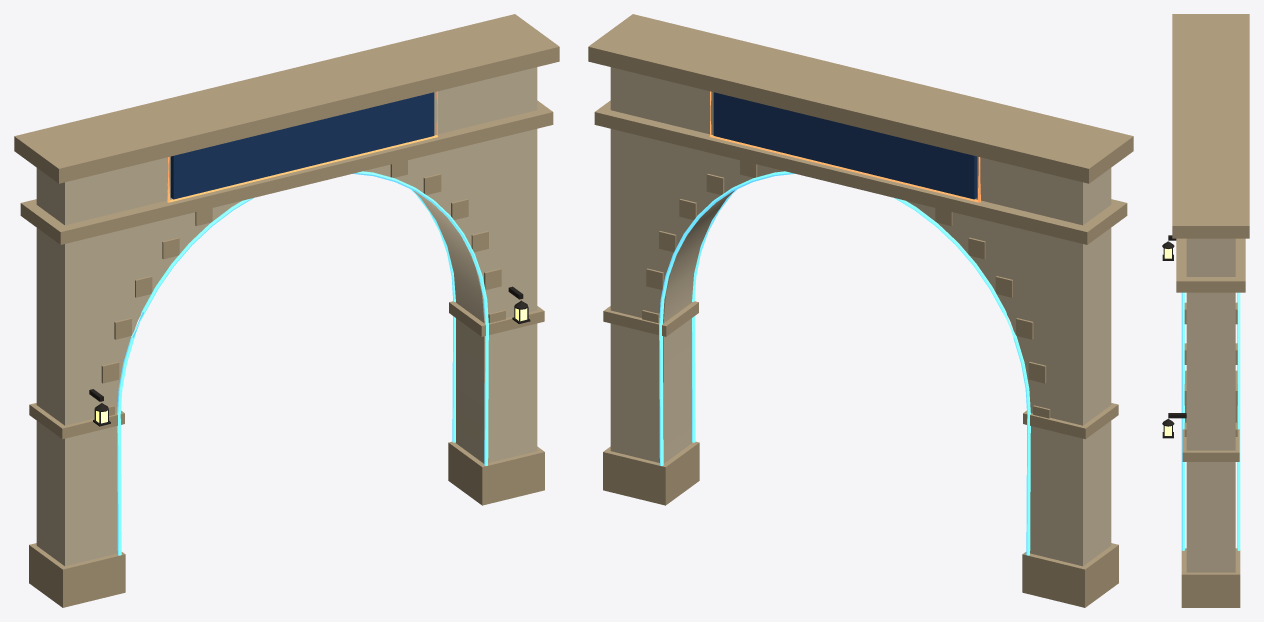
3 views of the same model, side by side, from view 1: azimuth 30°, elevation 25°; view 2: azimuth 150°, elevation 25°; view 3: azimuth 270°, elevation 25° (orthographic). The views are drawn at different scales.
Parts seen in each view (by area): view 1: gate.lod0; view 2: gate.lod0; view 3: gate.lod0.
Boxes of the visible parts, x1,y1,x2,y2 form: gate.lod0: (14,14,559,607); gate.lod0: (588,14,1133,607); gate.lod0: (1162,14,1249,607).
Size of the model in its own units: 12.3 by 10.45 by 2.15.
